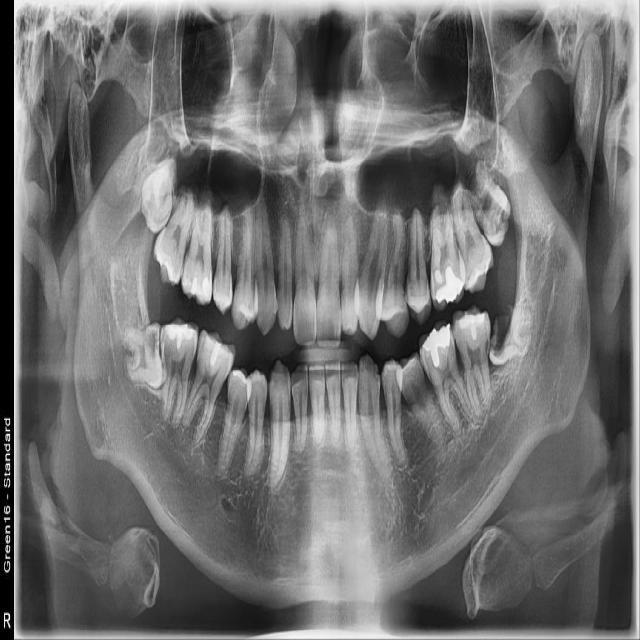3M ESPE Implant: (139, 158, 175, 235)
52: (189, 328, 240, 396), (449, 301, 499, 370), (153, 315, 201, 386), (416, 318, 461, 388), (148, 218, 190, 289), (457, 225, 497, 294), (429, 248, 467, 313), (179, 245, 214, 307), (392, 352, 431, 406), (227, 367, 252, 417), (496, 316, 511, 353), (485, 338, 490, 352)
73: (583, 560, 590, 576)
BioHorizons Implant: (445, 178, 499, 295)
BioLife Implant: (453, 158, 526, 251)
Biomet 3i Implant: (488, 303, 535, 369)
Blue Sky Bio Implant: (451, 302, 493, 419)
Caries: (146, 181, 197, 290)
Implant: (159, 317, 200, 429)
Keystone Dental Implant: (118, 322, 168, 391)
